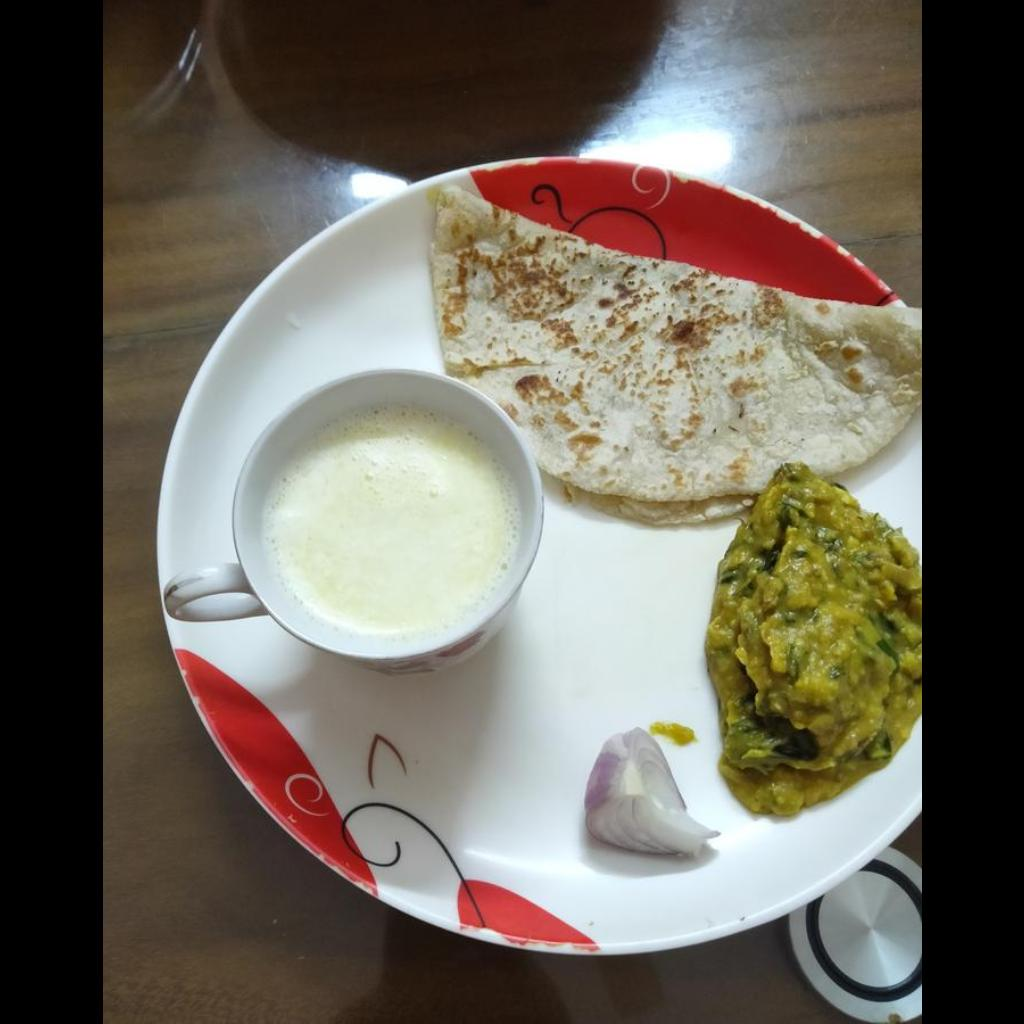daal: (704, 476, 920, 818)
milk: (255, 405, 524, 646)
ruti: (429, 186, 920, 525)
